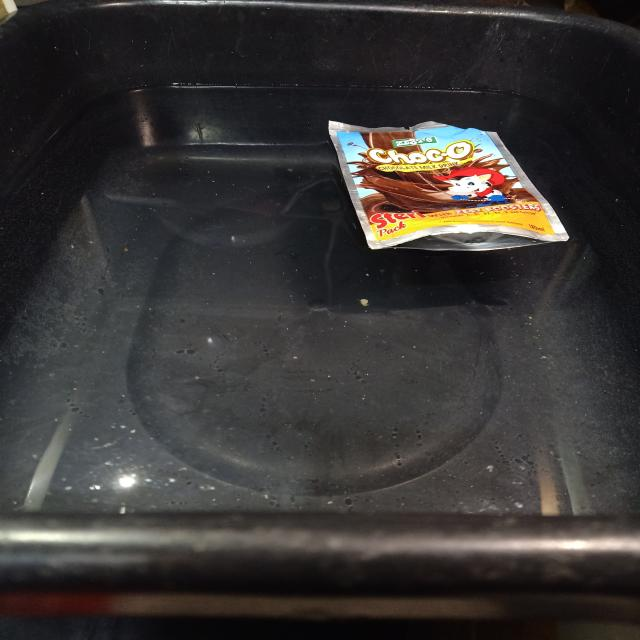Plastic Pouch: (329, 121, 568, 250)
